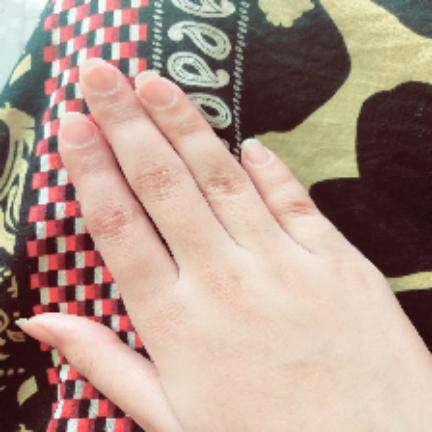Nail: (135, 71, 176, 109), (80, 58, 117, 92), (61, 112, 94, 145), (15, 319, 51, 345), (241, 138, 271, 166)
